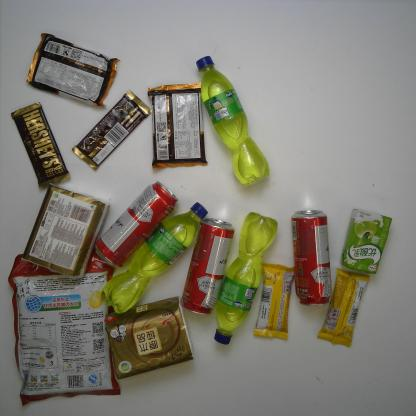Alcohol: (96, 180, 179, 269), (178, 216, 235, 316), (292, 208, 334, 307)
Chocolate: (77, 88, 151, 169), (9, 100, 70, 192), (318, 268, 372, 349), (255, 258, 297, 342)
Dessert: (25, 29, 121, 111), (147, 79, 209, 170)
Drink: (102, 200, 209, 313), (196, 51, 270, 188), (213, 208, 279, 345)
Instant Drink: (8, 246, 121, 407)
Milk: (340, 206, 394, 277)
Tissue: (20, 180, 110, 281), (104, 291, 196, 383)
